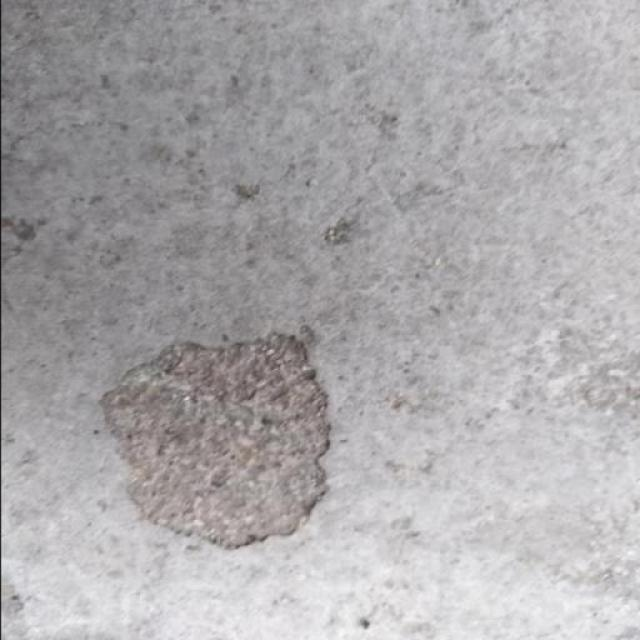D10: (95, 332, 329, 550)
